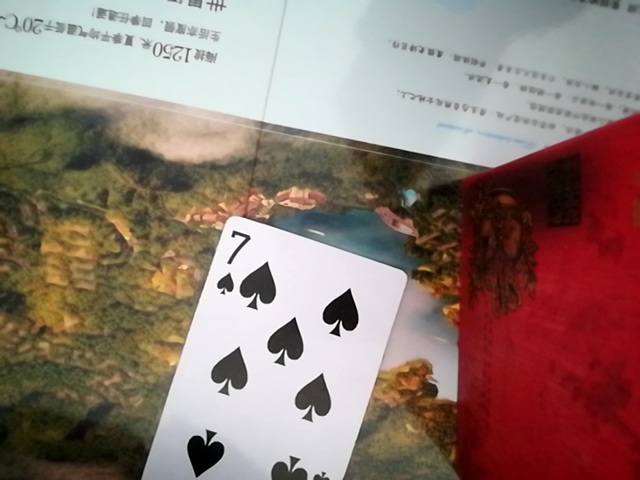ht 7: (134, 222, 419, 480)
